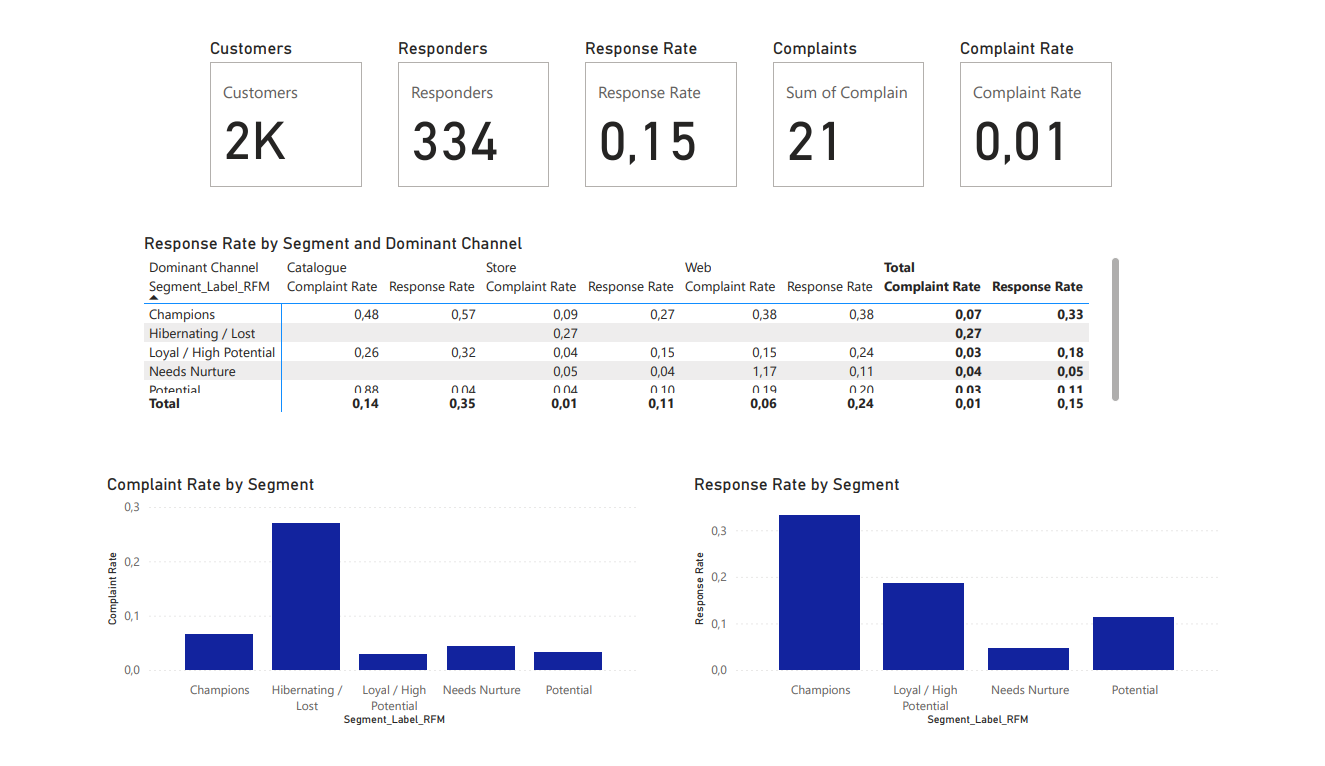

What the dashboard file says about the page in this screenshot:
{"tool":"powerbi","page":{"name":"Predictive Targeting","canvas":[1280,720],"ordinal":2},"visuals":[{"type":"cardVisual","title":"Customers","fields":{"Data":["Customer.Customers"]},"box":[181.4,14.5,161.4,154.2],"z":0},{"type":"cardVisual","title":"Responders","fields":{"Data":["superstore_data.Responders"]},"box":[368.8,14.5,161.4,154.2],"z":1000},{"type":"cardVisual","title":"Response Rate","fields":{"Data":["superstore_data.Response Rate"]},"box":[556.3,14.5,161.4,154.2],"z":2000},{"type":"cardVisual","title":"Complaints","fields":{"Data":["Sum(superstore_data.Complain)"]},"box":[743.8,14.5,161.4,154.2],"z":3000},{"type":"cardVisual","title":"Complaint Rate","fields":{"Data":["superstore_data.Complaint Rate"]},"box":[931.3,14.5,161.4,154.2],"z":4000},{"type":"clusteredColumnChart","title":"Response Rate by Segment","fields":{"Category":["Customer.Segment_Label_RFM"],"Y":["superstore_data.Response Rate"]},"box":[664.7,450.7,535,256.6],"z":5000},{"type":"clusteredColumnChart","title":"Complaint Rate by Segment","fields":{"Category":["Customer.Segment_Label_RFM"],"Y":["superstore_data.Complaint Rate"]},"box":[78,450.7,542.3,256.6],"z":6000},{"type":"pivotTable","title":"Response Rate by Segment and Dominant Channel","fields":{"Rows":["Customer.Segment_Label_RFM"],"Columns":["Customer.Dominant Channel"],"Values":["superstore_data.Complaint Rate","superstore_data.Response Rate"]},"box":[115.2,210.4,985.7,184.1],"z":7000}]}

Visuals, with their boxes in screenshot pixels (x1, y1, x2, y2), scaled from the page's 1280x720 canvas onto the 1325x766 screenshot:
"Customers" cardVisual: [188, 15, 355, 179]
"Responders" cardVisual: [382, 15, 549, 179]
"Response Rate" cardVisual: [576, 15, 743, 179]
"Complaints" cardVisual: [770, 15, 937, 179]
"Complaint Rate" cardVisual: [964, 15, 1131, 179]
"Response Rate by Segment" clusteredColumnChart: [688, 479, 1242, 752]
"Complaint Rate by Segment" clusteredColumnChart: [81, 479, 642, 752]
"Response Rate by Segment and Dominant Channel" pivotTable: [119, 224, 1140, 420]
